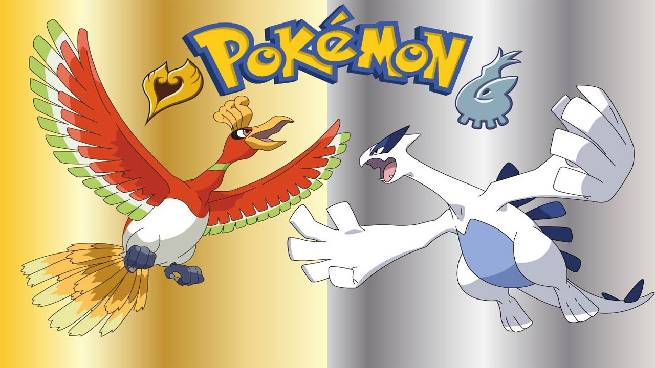lugia: (359, 126, 423, 187)
